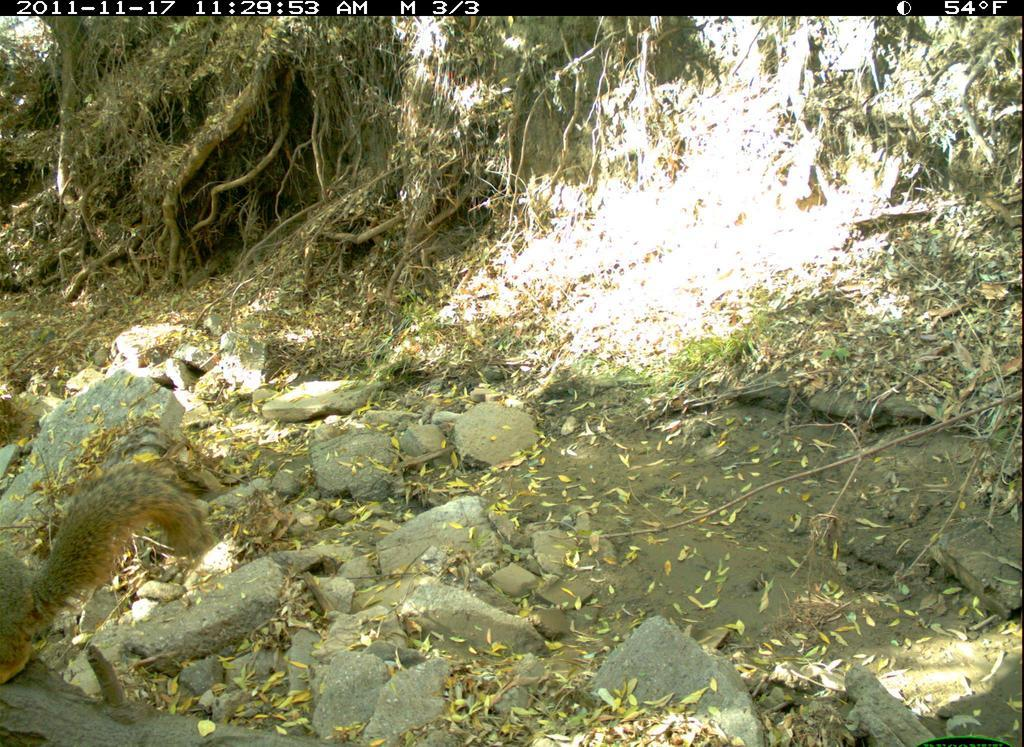squirrel: (1, 457, 223, 697)
